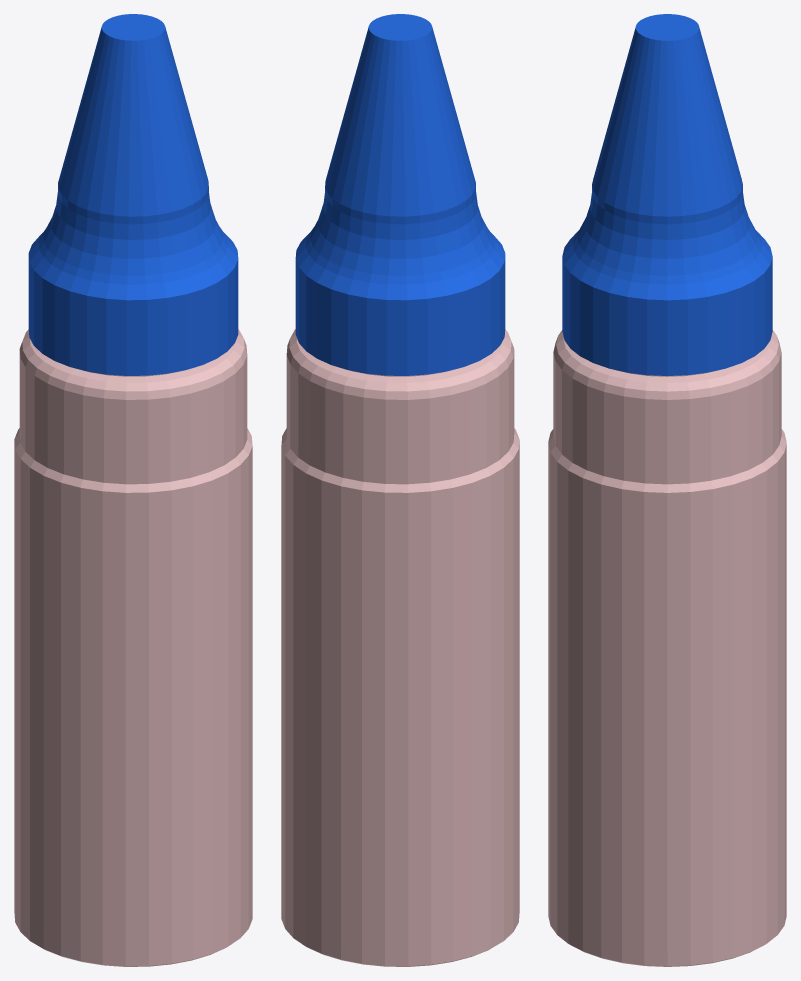
The model's file is glue.fbx.
3 renders of one model, left to right at view 1: azimuth 30°, elevation 25°; view 2: azimuth 150°, elevation 25°; view 3: azimuth 270°, elevation 25°, orthographic.
Visible parts, largest first — view 1: 柱体; view 2: 柱体; view 3: 柱体.
Boxes of the visible parts, <box> form: 柱体: <box>14,14,252,966</box>; 柱体: <box>281,14,519,966</box>; 柱体: <box>548,14,786,966</box>.
Size of the model in its own units: 6 by 24.69 by 6.
